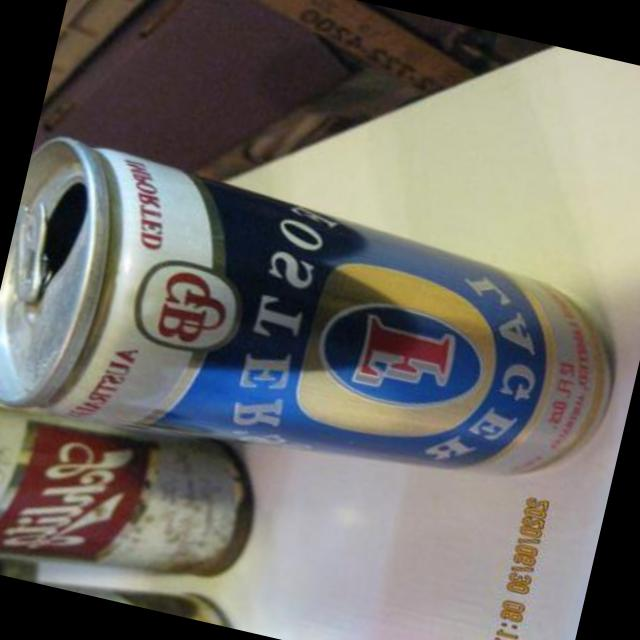metal: (0, 135, 606, 471)
